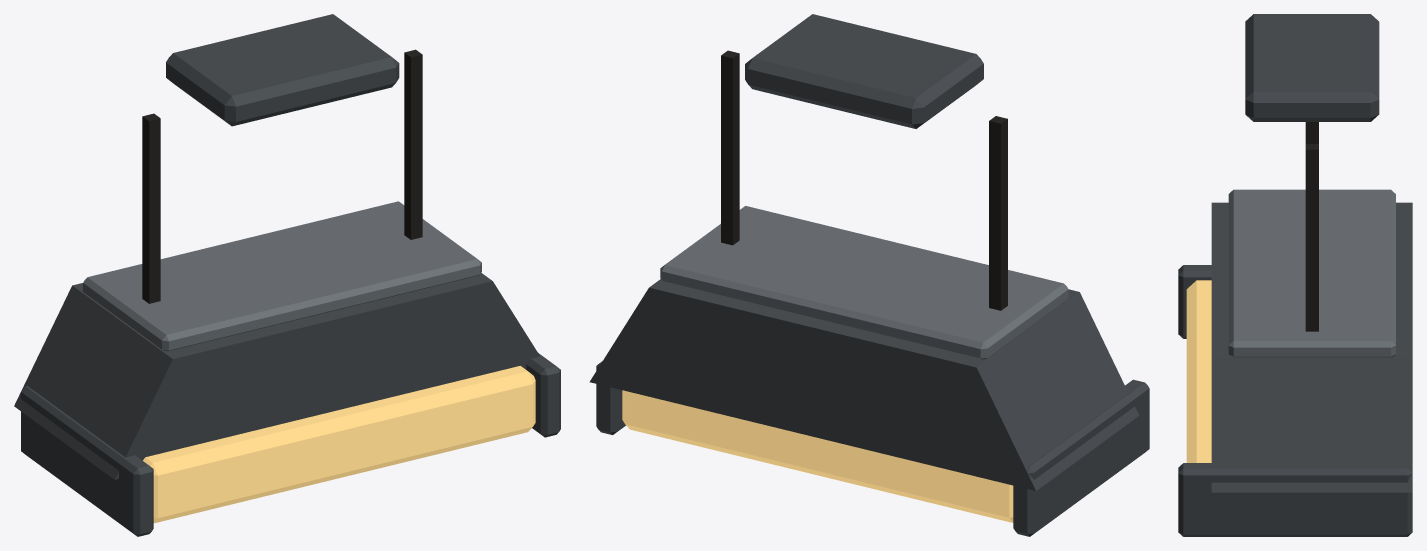
Rendered from lamp_ceiling_lyuminestsentnaya_idle.glb.
3 views of the same model, side by side, from view 1: azimuth 30°, elevation 25°; view 2: azimuth 150°, elevation 25°; view 3: azimuth 270°, elevation 25° (orthographic). The views are drawn at different scales.
Parts seen in each view (by area): view 1: lamp_ceiling_lyuminestsentnaya_idle; view 2: lamp_ceiling_lyuminestsentnaya_idle; view 3: lamp_ceiling_lyuminestsentnaya_idle.
Part boxes in pixels (x1=…): lamp_ceiling_lyuminestsentnaya_idle: x1=14, y1=14, x2=560, y2=536; lamp_ceiling_lyuminestsentnaya_idle: x1=589, y1=14, x2=1149, y2=536; lamp_ceiling_lyuminestsentnaya_idle: x1=1178, y1=14, x2=1412, y2=536.
Size of the model in its own units: 0.3 by 0.252 by 0.14.
Materials: 2 (2 with a texture image).
